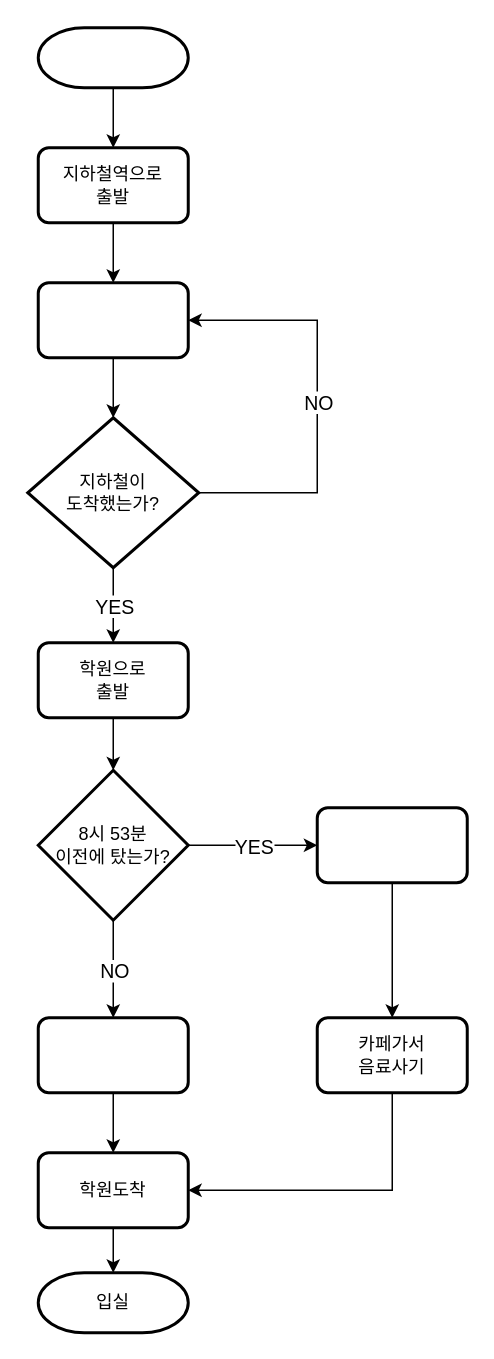
The diagram is 494 pixels wide and 1359 high, and some of its shapes have lost their labels. Here are the shapes that lost their labels. From the top down, the centre of each, then its label:
the point at 112,57: 기상
the point at 112,319: 지하철역 대기
the point at 391,845: 반월당역 도착
the point at 112,1055: 중앙로역 도착
